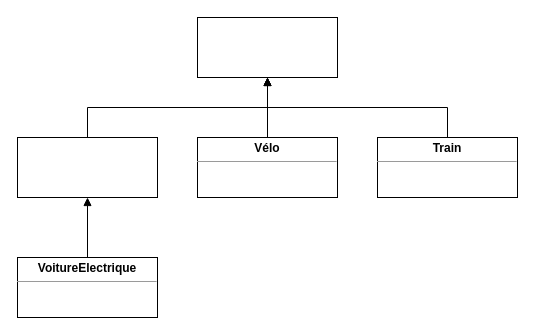
Image size: 535x335. Some labels were removed from this diagram. The box of each missing label's shape, as (x1, y1, x2, y2) in pixels:
Voiture: (16, 136, 158, 198)
Véhicule: (196, 16, 338, 78)
